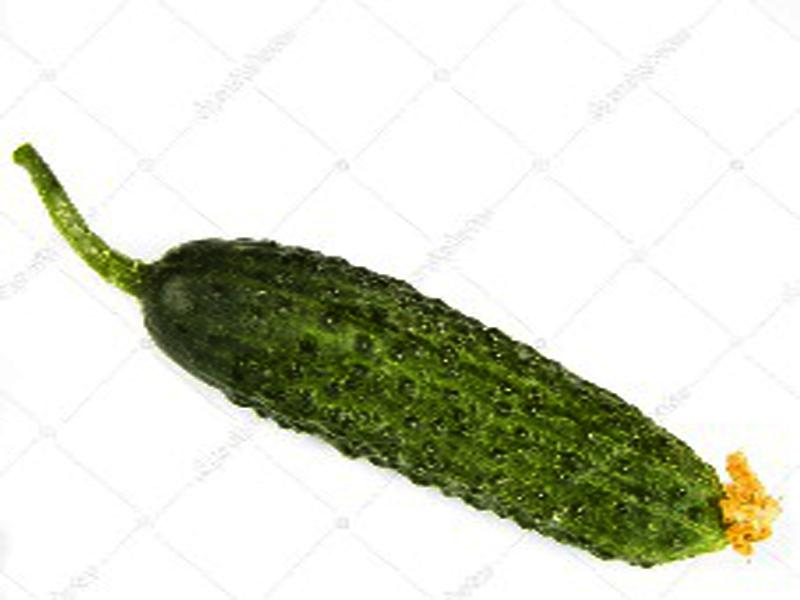Cucumber: (14, 145, 782, 568)
